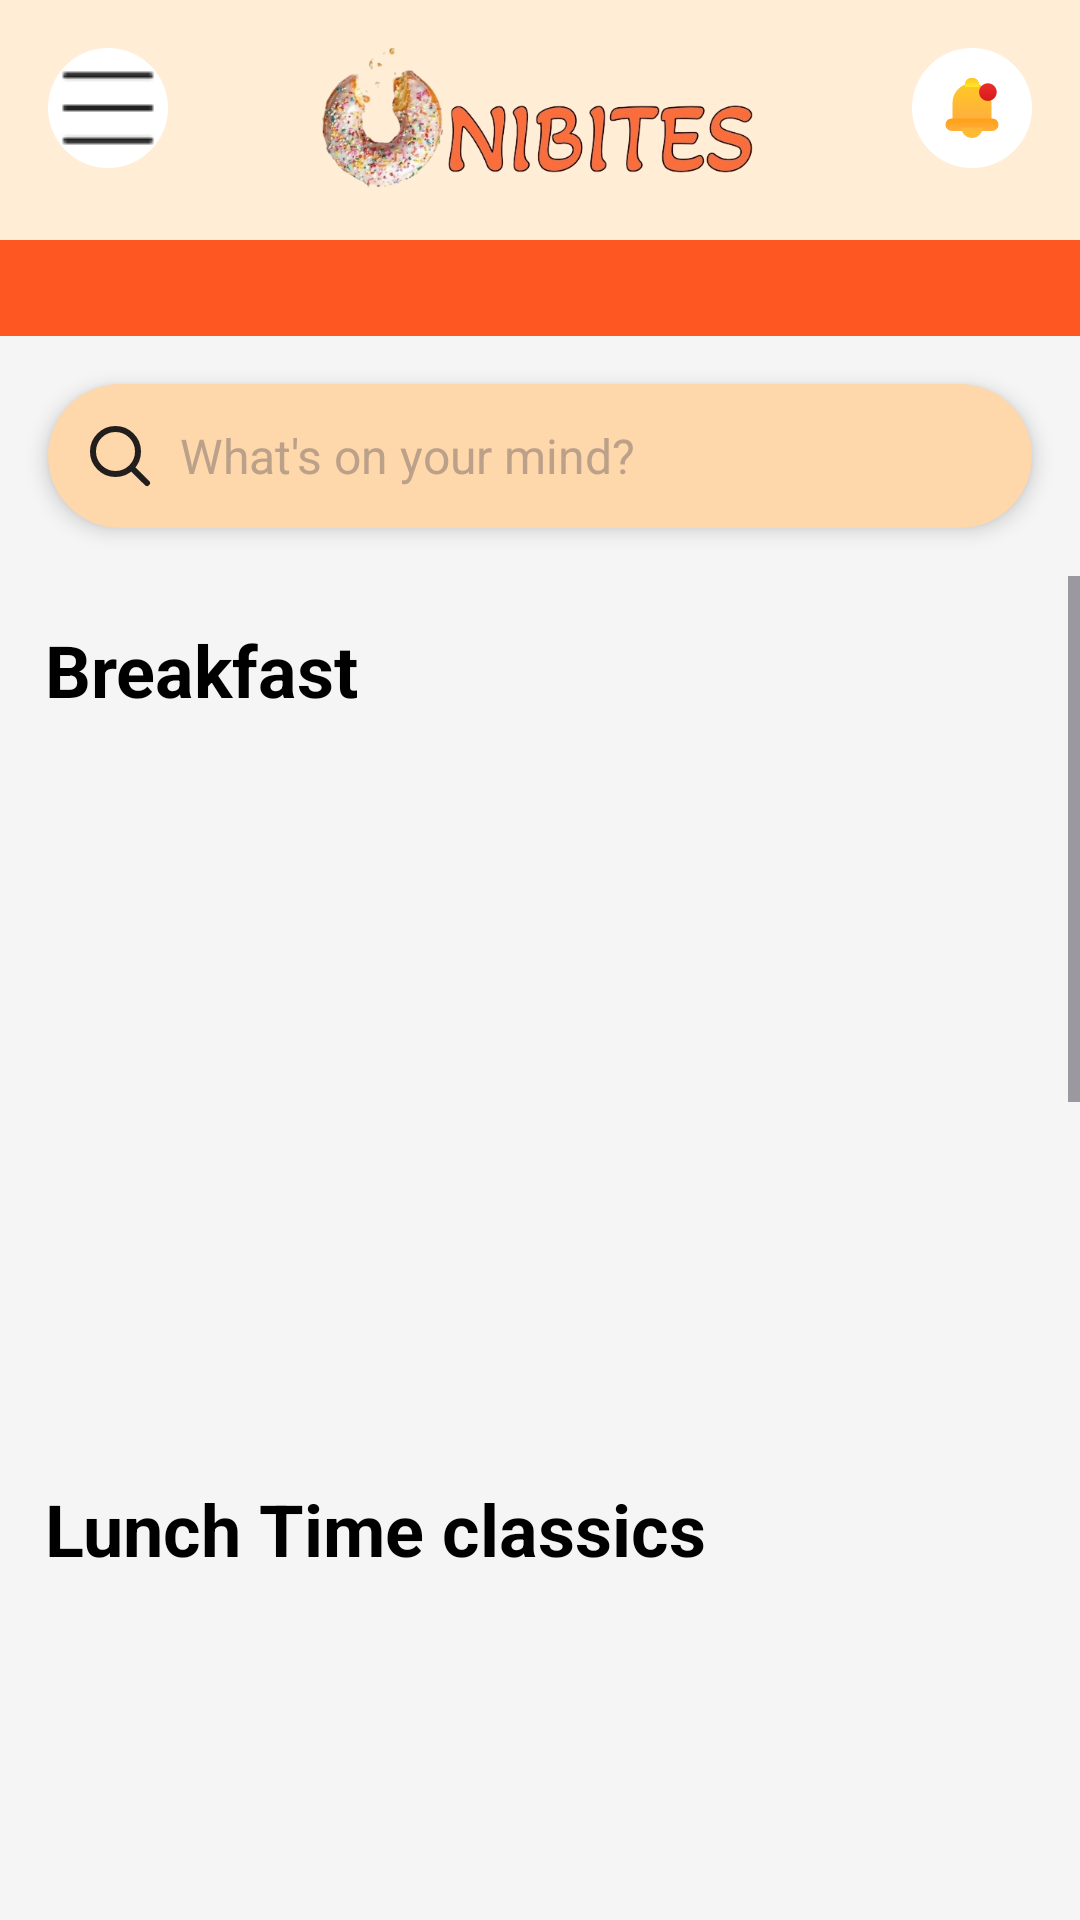

Locate icon controls on the screen. Image size 1080px×1920px, boxes as (x1, y1, x2, y2).
Menu: (48, 48, 168, 168)
Notification: (912, 48, 1032, 168)
Search icon: (90, 426, 150, 486)
